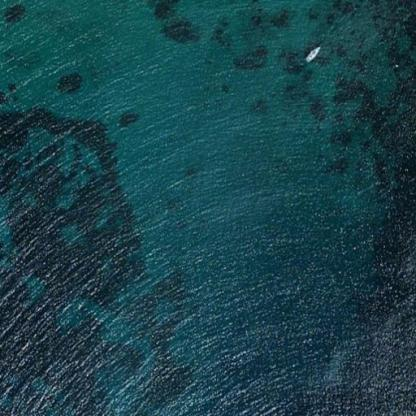ship: (290, 39, 329, 65)
